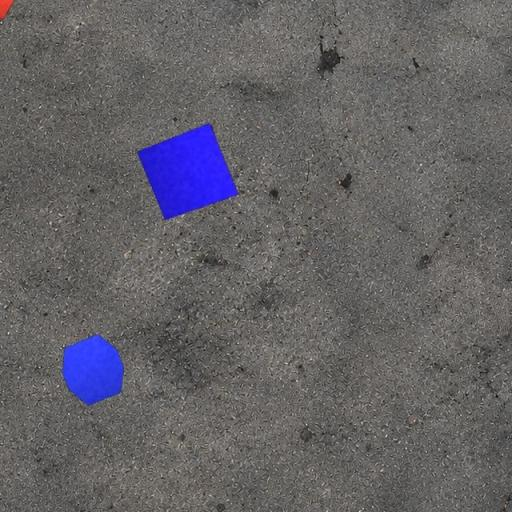BLUE_SQUARE: (136, 122, 239, 221)
